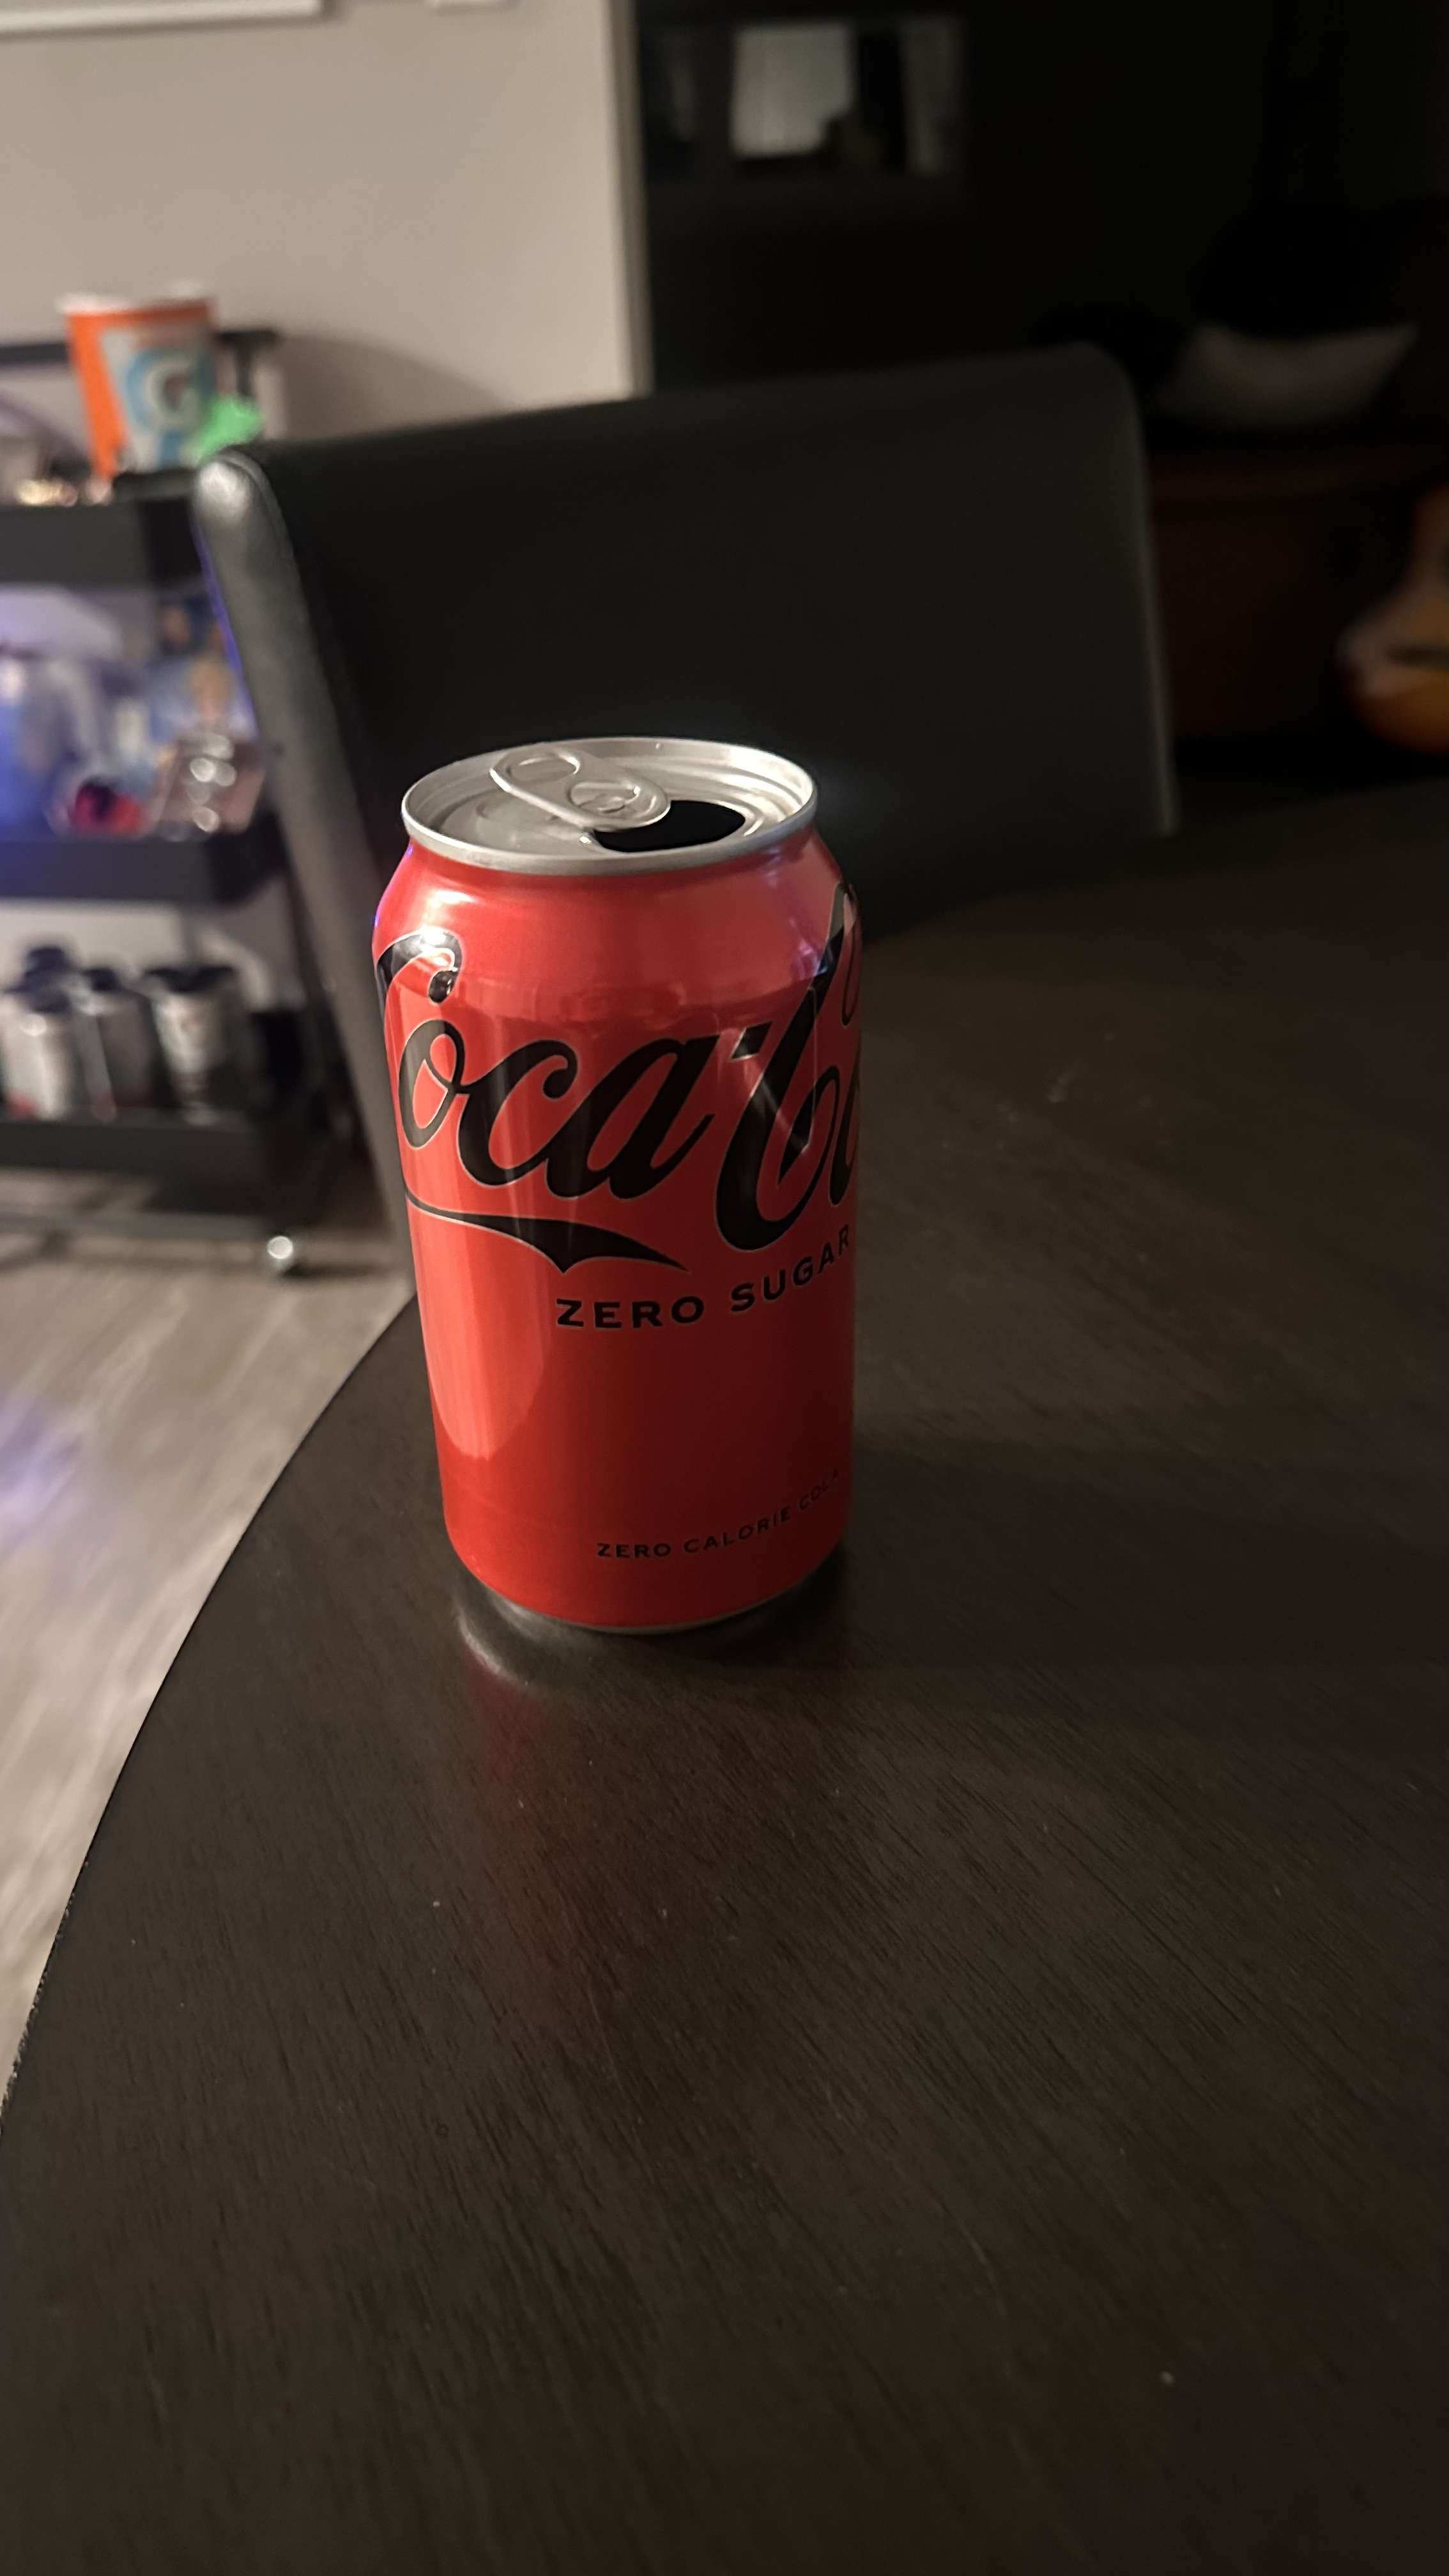Coke Zero: (341, 738, 899, 1660)
